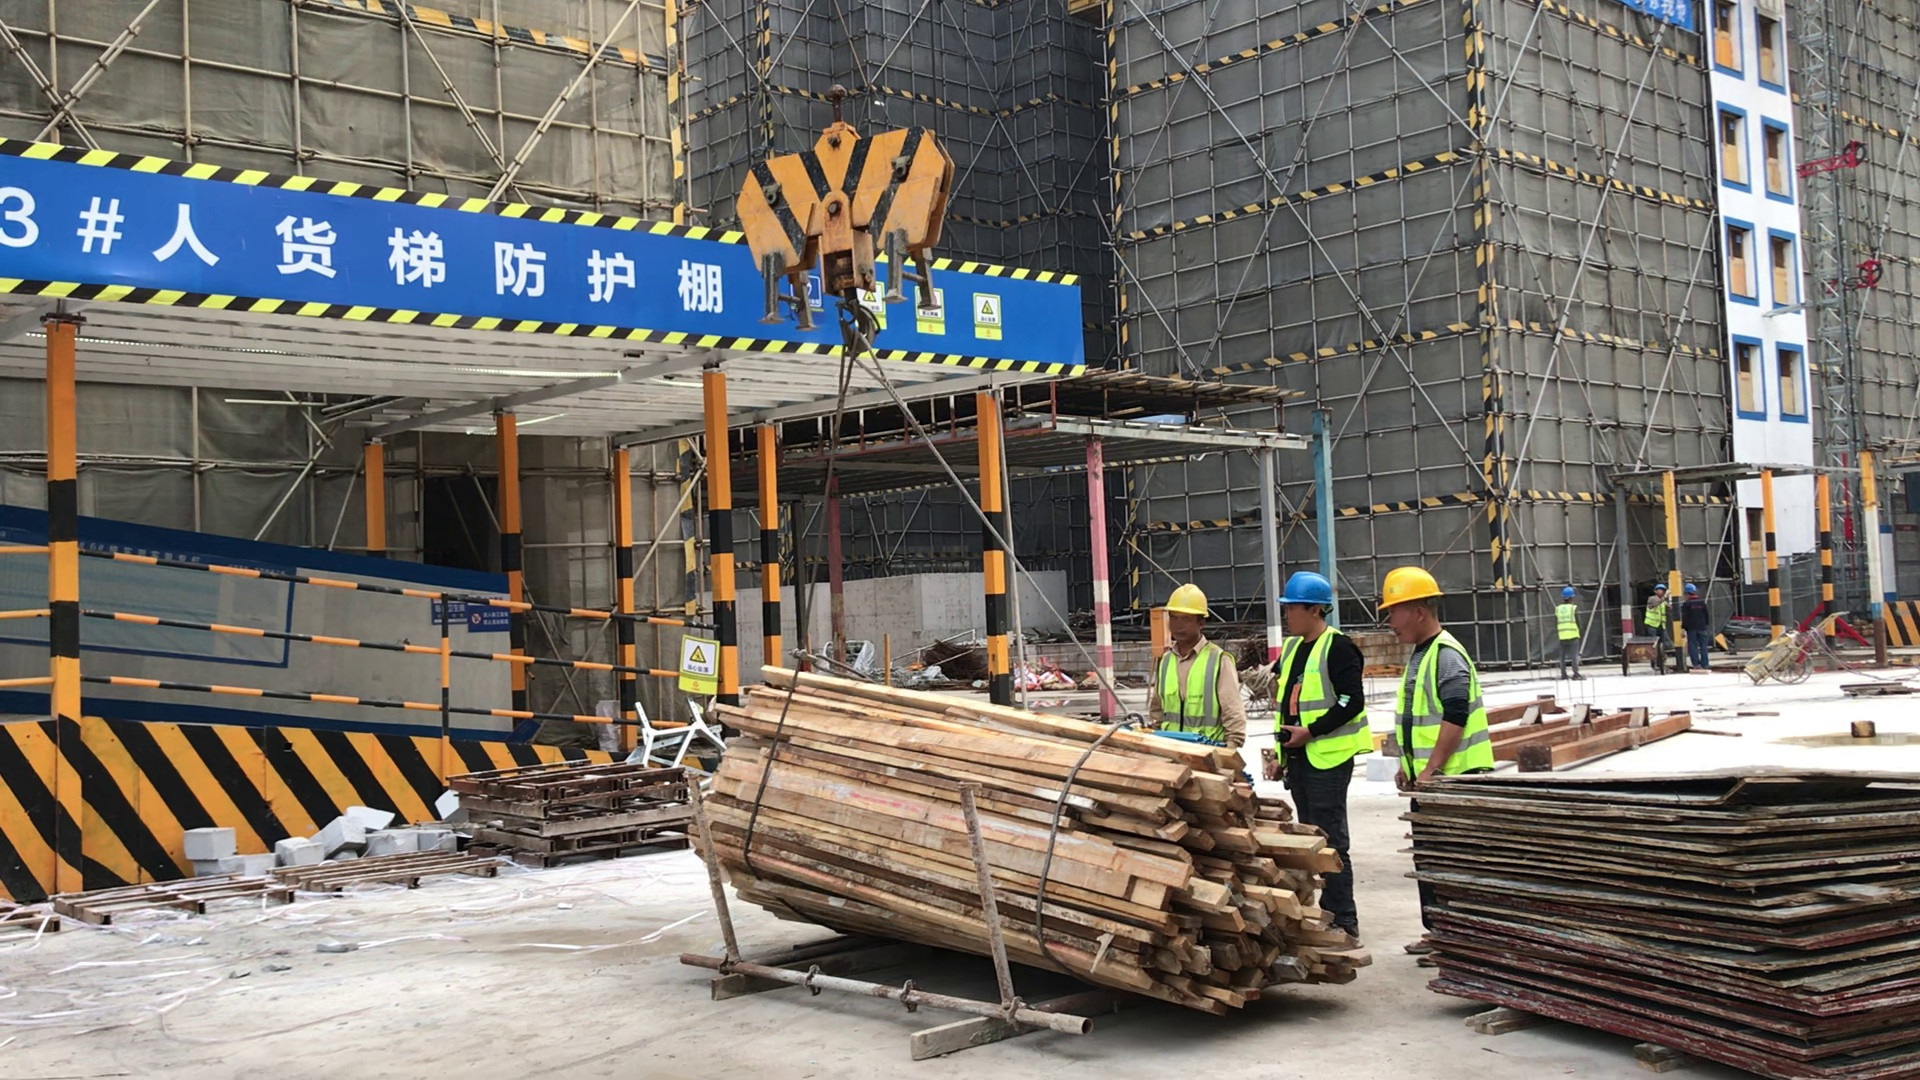board: (1393, 763, 1920, 1075)
handcart: (1742, 611, 1825, 687)
helmet: (1376, 560, 1445, 609), (1275, 571, 1338, 607), (1164, 582, 1211, 617), (1683, 582, 1698, 595), (1560, 585, 1575, 598), (1653, 583, 1669, 592)
hook: (734, 75, 966, 360)
person: (1375, 565, 1500, 974), (1261, 569, 1376, 951), (1143, 582, 1249, 760), (1551, 584, 1584, 682), (1678, 582, 1713, 670), (1643, 583, 1676, 675)
vest: (1273, 623, 1379, 777), (1391, 622, 1490, 788), (1152, 643, 1224, 735)
wood: (682, 661, 1379, 1006)
